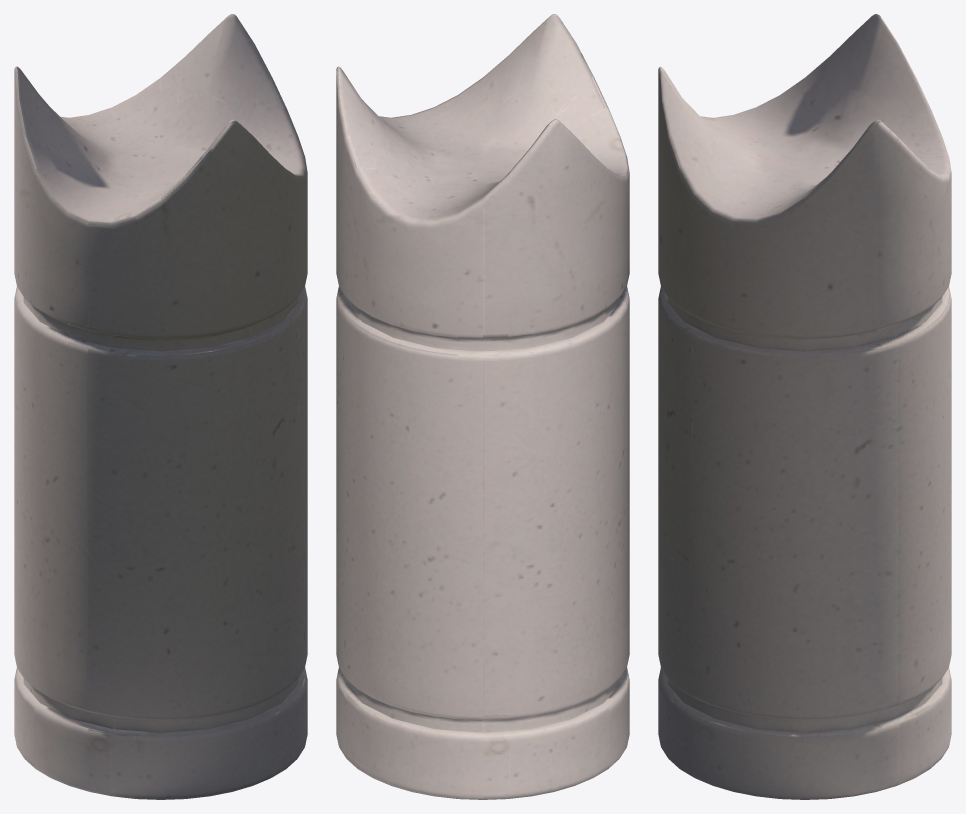
File: w-queen.glb
3 renders of one model, left to right at view 1: azimuth 30°, elevation 25°; view 2: azimuth 150°, elevation 25°; view 3: azimuth 270°, elevation 25°, orthographic.
Parts seen in each view (by area): view 1: w-queen; view 2: w-queen; view 3: w-queen.
Part boxes in pixels (bbox=[...]): w-queen: bbox=[14, 14, 307, 799]; w-queen: bbox=[336, 14, 629, 799]; w-queen: bbox=[658, 14, 951, 799].
Bounding box in the file's own units: 0.508 × 1.29 × 0.508.
Materials: 1 (1 with a texture image).
